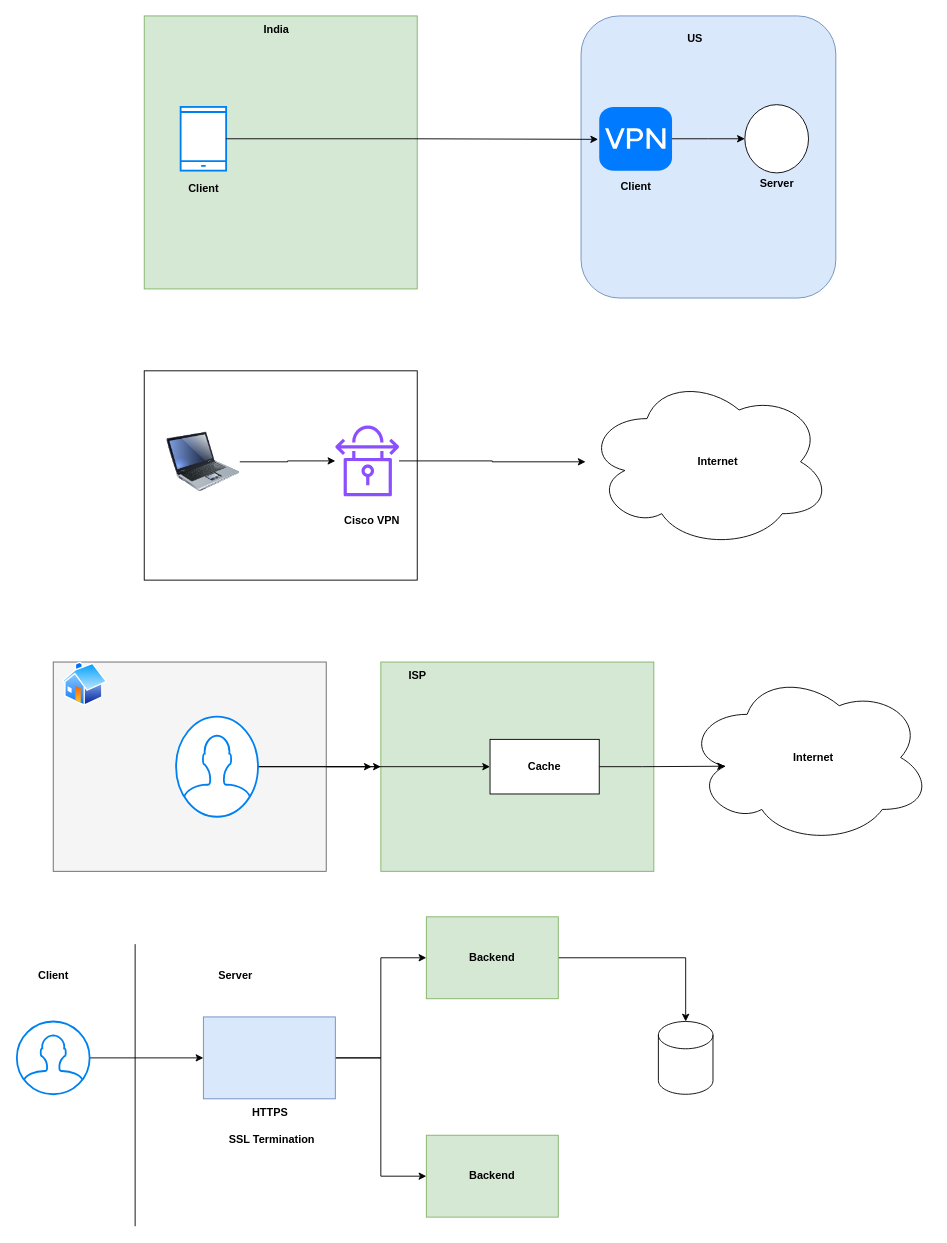
This 947x1243 diagram has some shape labels left out. The shapes that lost their labels are listed below. From the top down, each one's centre as x and y in pixels, then its label:
At point 776,138: "H*".
At point 268,1057: "Frontend".
